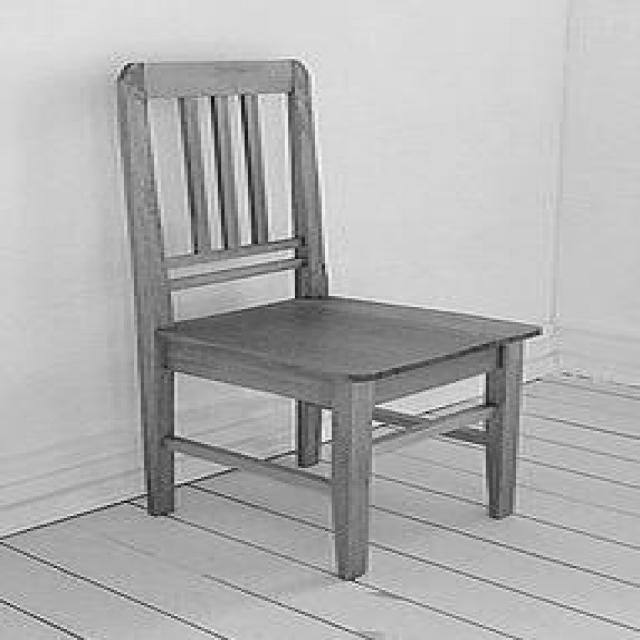chair: (99, 57, 551, 583)
